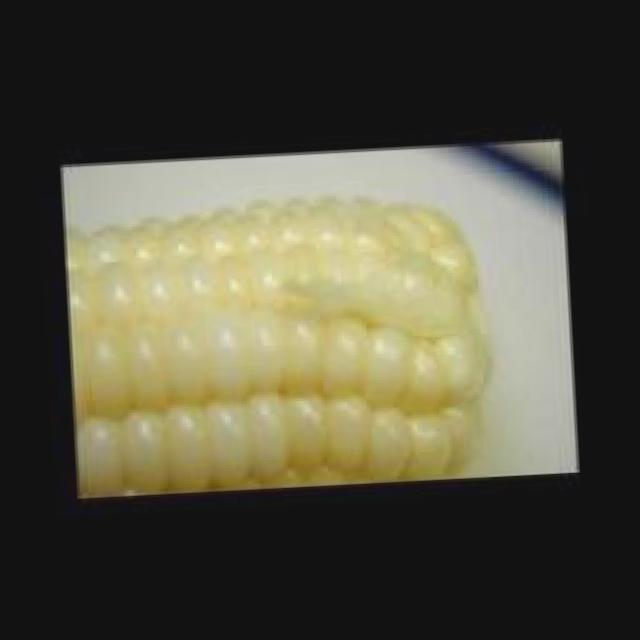corn: (67, 197, 499, 501)
